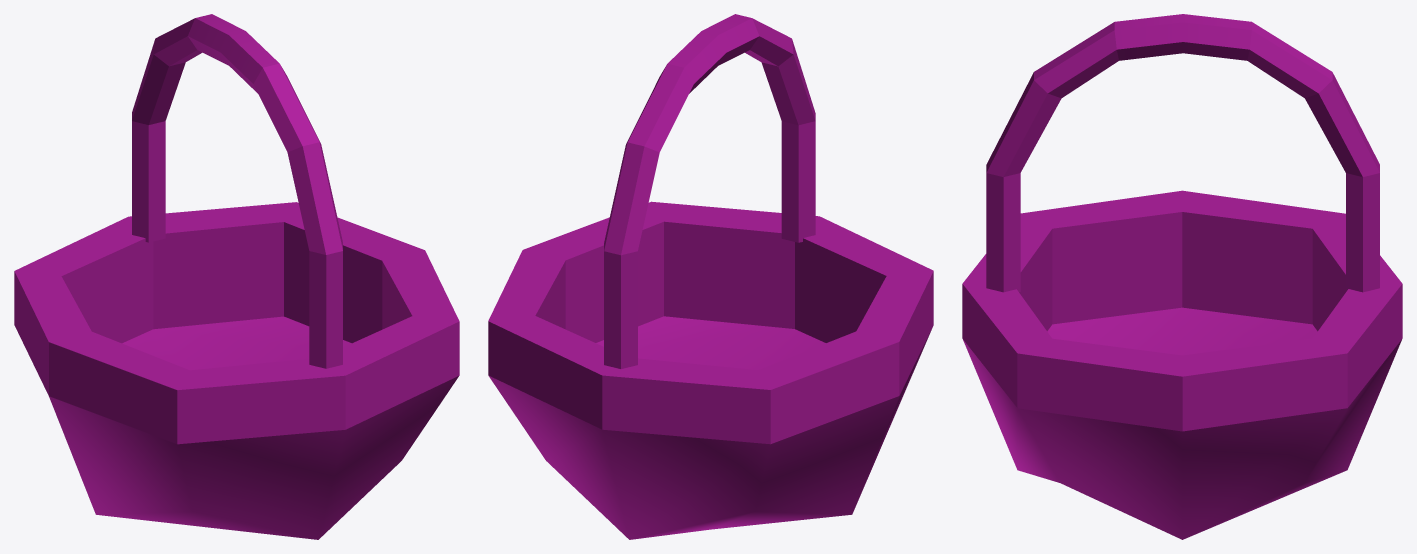
The model's file is basket.fbx.
3 views of the same model, side by side, from view 1: azimuth 30°, elevation 25°; view 2: azimuth 150°, elevation 25°; view 3: azimuth 270°, elevation 25° (orthographic).
Visible parts, largest first — view 1: pCube2, pCylinder1; view 2: pCube2, pCylinder1; view 3: pCube2, pCylinder1.
Part boxes in pixels (x1,y1,x2,y2): pCube2: (14,202,459,539); pCylinder1: (132,14,342,368); pCube2: (488,201,933,539); pCylinder1: (604,14,815,368); pCube2: (962,190,1402,539); pCylinder1: (986,14,1379,292).
Size of the model in its own units: 46.01 by 57.94 by 46.01.
